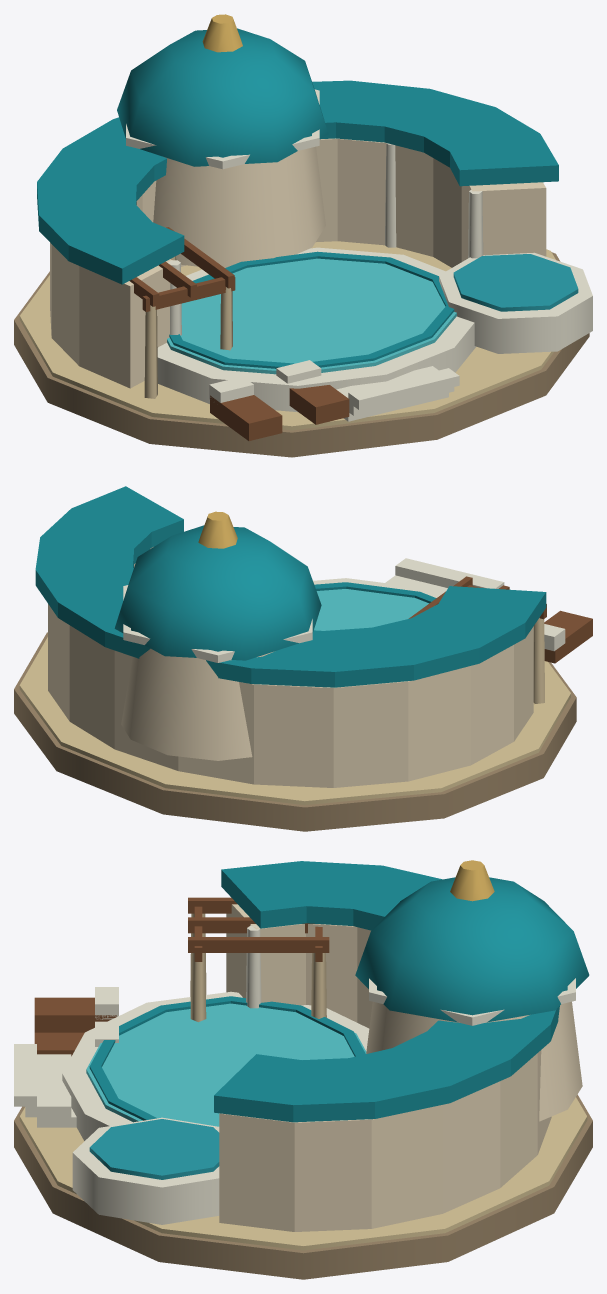
The model's file is recovery-center-lv3.glb.
3 views of the same model, one above another, from view 1: azimuth 30°, elevation 25°; view 2: azimuth 150°, elevation 25°; view 3: azimuth 270°, elevation 25° (orthographic). The views are drawn at different scales.
Parts seen in each view (by area): view 1: crescent_roof_aqua, crescent_bathhouse_cream, water_pool, recovery_dome_aqua, foundation_stoneDark, recovery_pavilion_cream, foundation_sand, pool_terrace_white, raised_pool_white, side_water_water, pool_mosaic_aqua, sun_loungers_wood (+7 smaller); view 2: crescent_bathhouse_cream, crescent_roof_aqua, recovery_dome_aqua, foundation_stoneDark, foundation_sand, recovery_pavilion_cream, water_pool, pool_steps_white, sun_loungers_wood, dome_finial_gold, recovery_dome_white, body_stone (+3 smaller); view 3: crescent_bathhouse_cream, crescent_roof_aqua, recovery_dome_aqua, foundation_stoneDark, water_pool, foundation_sand, raised_pool_white, side_water_water, recovery_pavilion_cream, recovery_pergola_wood, pool_terrace_white, pool_steps_white (+7 smaller).
Part boxes in pixels (x1,y1,x2,y2): crescent_roof_aqua: (37,80,558,284); crescent_bathhouse_cream: (50,138,546,388); water_pool: (167,258,456,374); recovery_dome_aqua: (117,28,328,166); foundation_stoneDark: (14,252,589,457); recovery_pavilion_cream: (153,146,325,267); foundation_sand: (19,241,555,430); pool_terrace_white: (157,247,475,412); raised_pool_white: (439,252,592,353); side_water_water: (453,254,578,311); pool_mosaic_aqua: (169,251,454,368); sun_loungers_wood: (210,385,349,440); crescent_bathhouse_cream: (48,547,533,787); crescent_roof_aqua: (35,486,546,687); recovery_dome_aqua: (114,525,321,660); foundation_stoneDark: (14,632,576,831); foundation_sand: (19,637,570,805); recovery_pavilion_cream: (121,648,273,760); water_pool: (314,589,428,630); pool_steps_white: (385,558,504,593); sun_loungers_wood: (544,610,592,663); dome_finial_gold: (198,511,237,548); recovery_dome_white: (123,585,312,662); body_stone: (533,618,544,703); crescent_bathhouse_cream: (219,904,551,1231); crescent_roof_aqua: (214,861,559,1122); recovery_dome_aqua: (355,877,589,1022); foundation_stoneDark: (14,1094,592,1279); water_pool: (86,1003,366,1126); foundation_sand: (19,1097,587,1250); raised_pool_white: (72,1117,219,1224); side_water_water: (89,1119,219,1179); recovery_pavilion_cream: (366,1001,582,1121); recovery_pergola_wood: (188,897,329,961); pool_terrace_white: (62,991,369,1140); pool_steps_white: (14,1044,76,1127).
Bounding box in the file's own units: 1 × 0.4959 × 0.9231.
